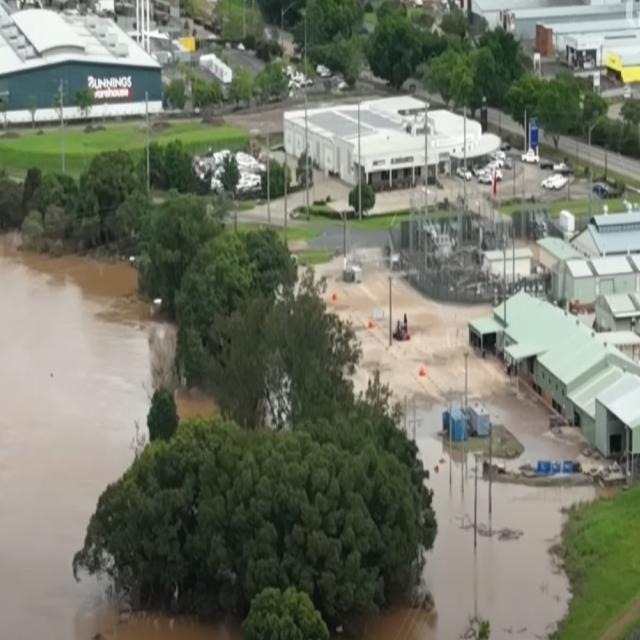flood: (0, 235, 239, 640), (418, 428, 595, 640), (472, 359, 554, 450)
house: (504, 282, 635, 476), (286, 92, 466, 198), (4, 4, 162, 96), (536, 26, 615, 82), (585, 207, 638, 256)
